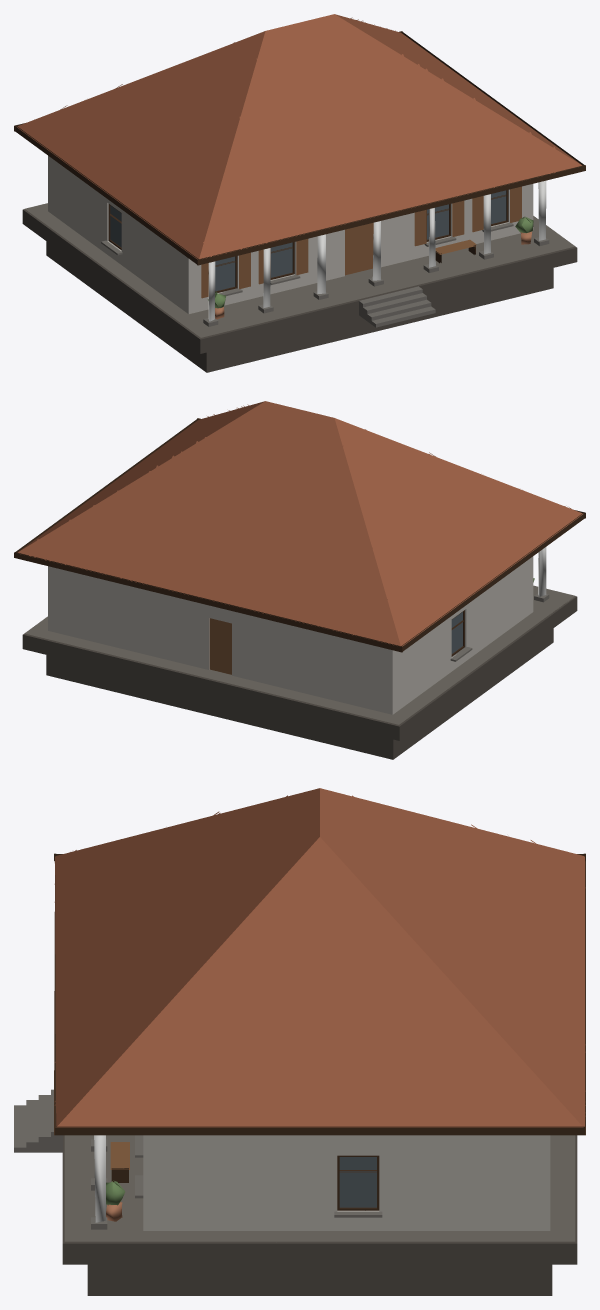
Rendered from bungalow_15x12_1_far.glb.
3 renders of one model, top to bottom at view 1: azimuth 30°, elevation 25°; view 2: azimuth 150°, elevation 25°; view 3: azimuth 270°, elevation 25°, orthographic. The views are drawn at different scales.
Parts seen in each view (by area): view 1: bungalow_15x12_1; view 2: bungalow_15x12_1; view 3: bungalow_15x12_1.
Boxes of the visible parts, <box> form: bungalow_15x12_1: <box>14,14,585,372</box>; bungalow_15x12_1: <box>14,401,585,759</box>; bungalow_15x12_1: <box>14,788,585,1295</box>.
Size of the model in its own units: 16.9 by 10.38 by 14.9.
